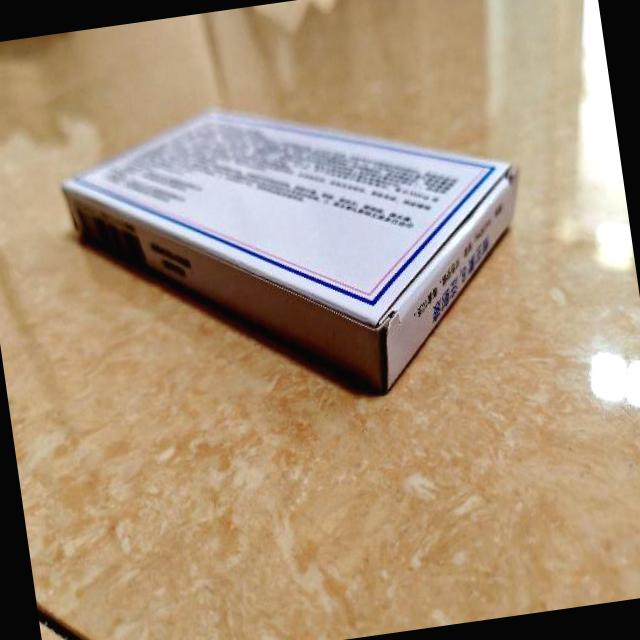box: (53, 68, 546, 434)
